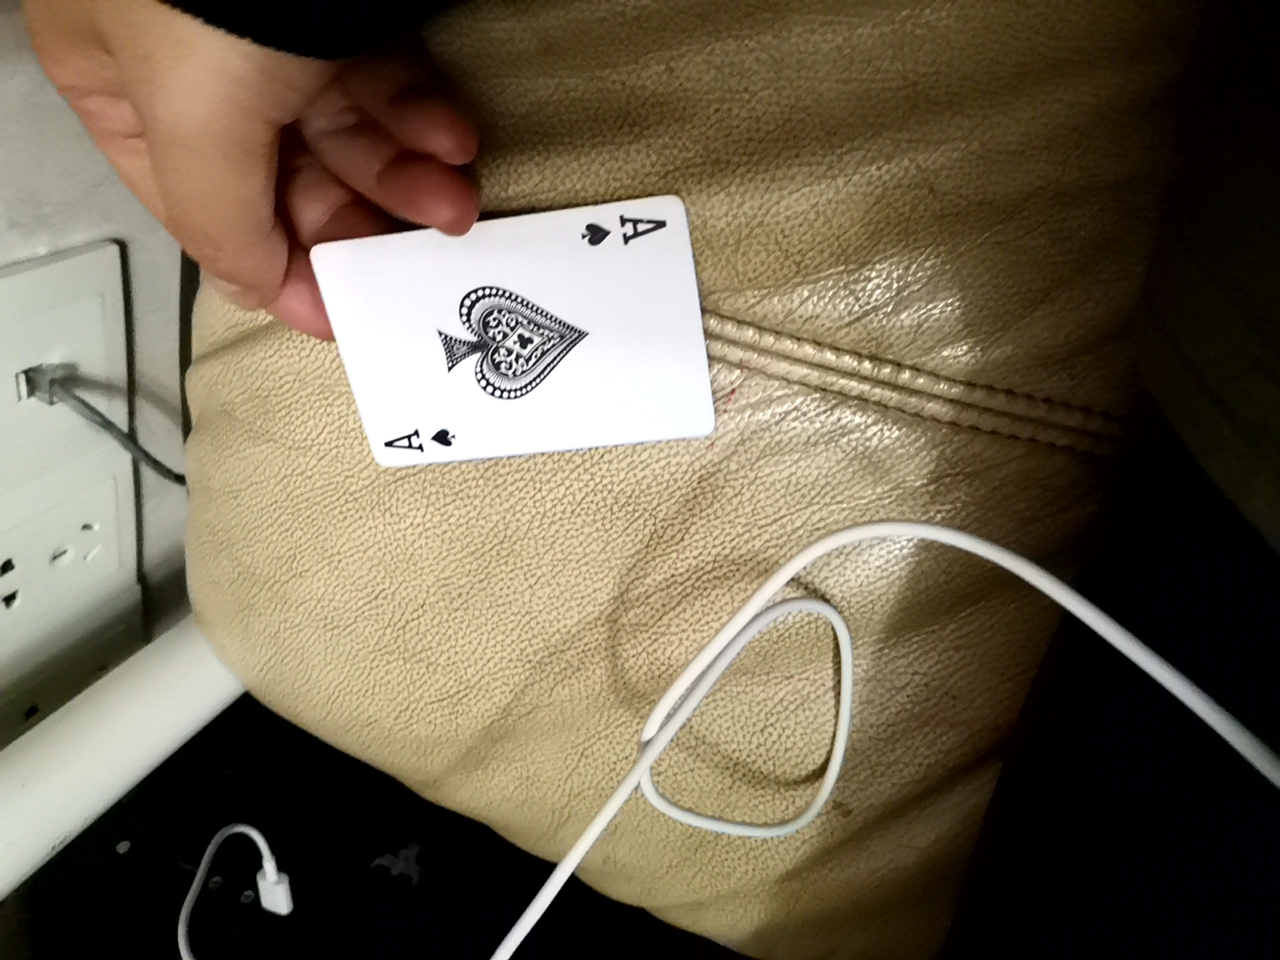ht a: (293, 212, 698, 469)
